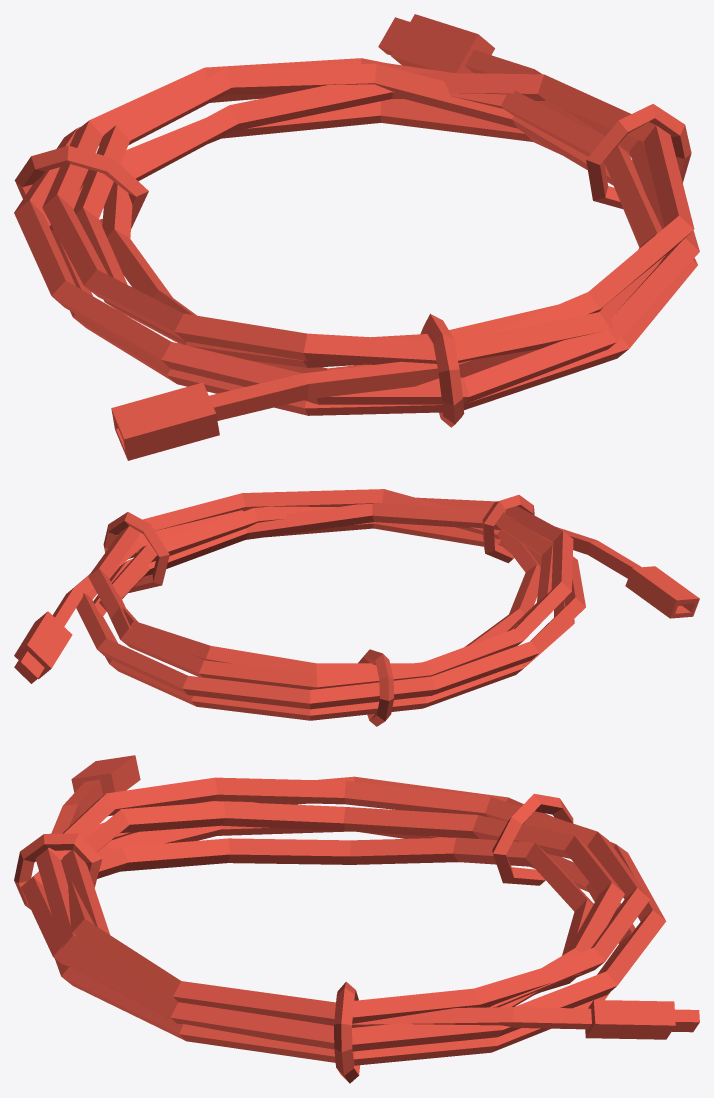
File: SM_Cable_Port_Stranded_Big_B.fbx
3 views of the same model, one above another, from view 1: azimuth 30°, elevation 25°; view 2: azimuth 150°, elevation 25°; view 3: azimuth 270°, elevation 25° (orthographic). The views are drawn at different scales.
Visible parts, largest first — view 1: SM_Cable_Port_Stranded_Big_B; view 2: SM_Cable_Port_Stranded_Big_B; view 3: SM_Cable_Port_Stranded_Big_B.
Boxes of the visible parts, bbox=[...] form: SM_Cable_Port_Stranded_Big_B: bbox=[14, 14, 699, 460]; SM_Cable_Port_Stranded_Big_B: bbox=[14, 489, 699, 726]; SM_Cable_Port_Stranded_Big_B: bbox=[14, 755, 699, 1083].
Bounding box in the file's own units: 37.27 × 38.39 × 5.85.
